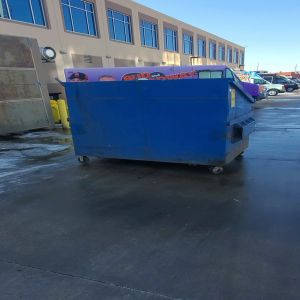Dumpster: (63, 81, 256, 176)
